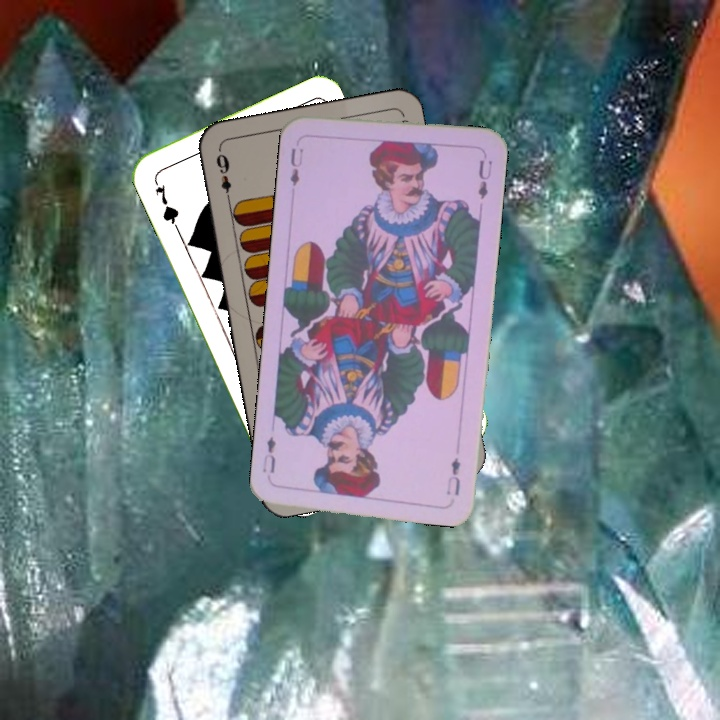E9: (212, 147, 234, 206)
EU: (442, 454, 463, 498), (286, 143, 306, 189)
G7: (149, 174, 182, 231)
